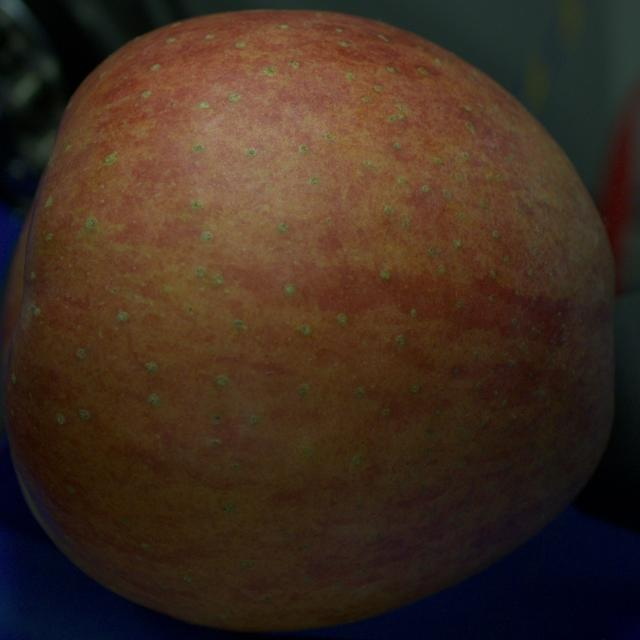apple: (1, 11, 614, 632)
